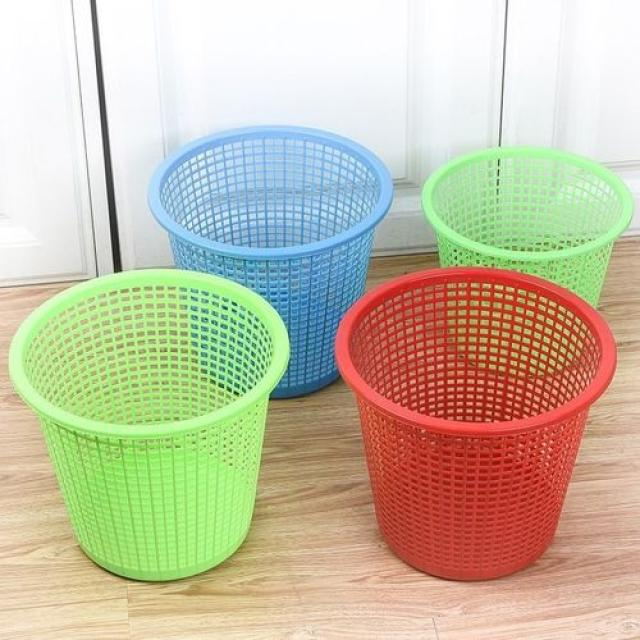dustbin: (5, 264, 293, 587), (334, 261, 619, 583), (144, 118, 397, 405), (418, 143, 636, 380)
